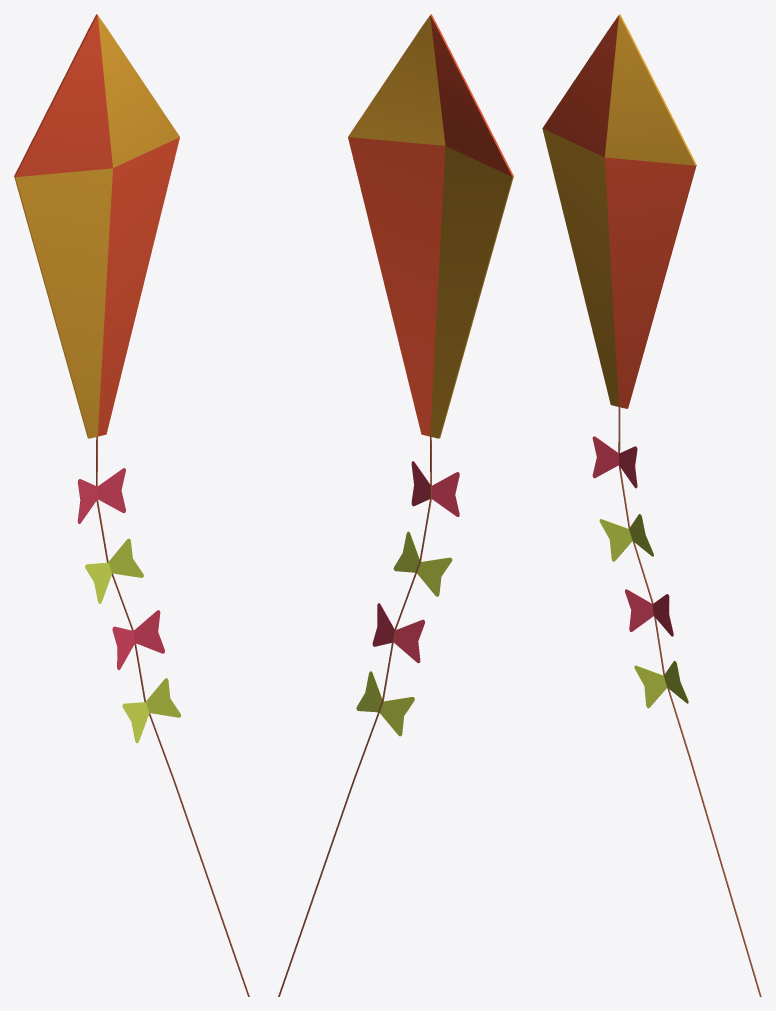
Rendered from Dragon.fbx.
3 views of the same model, side by side, from view 1: azimuth 30°, elevation 25°; view 2: azimuth 150°, elevation 25°; view 3: azimuth 330°, elevation 25° (orthographic). The views are drawn at different scales.
Visible parts, largest first — view 1: Dragon; view 2: Dragon; view 3: Dragon.
Part boxes in pixels (x1,y1,x2,y2): Dragon: [14, 14, 249, 996]; Dragon: [278, 14, 513, 996]; Dragon: [542, 14, 761, 996].
Size of the model in its own units: 48.56 by 201 by 5.93.
